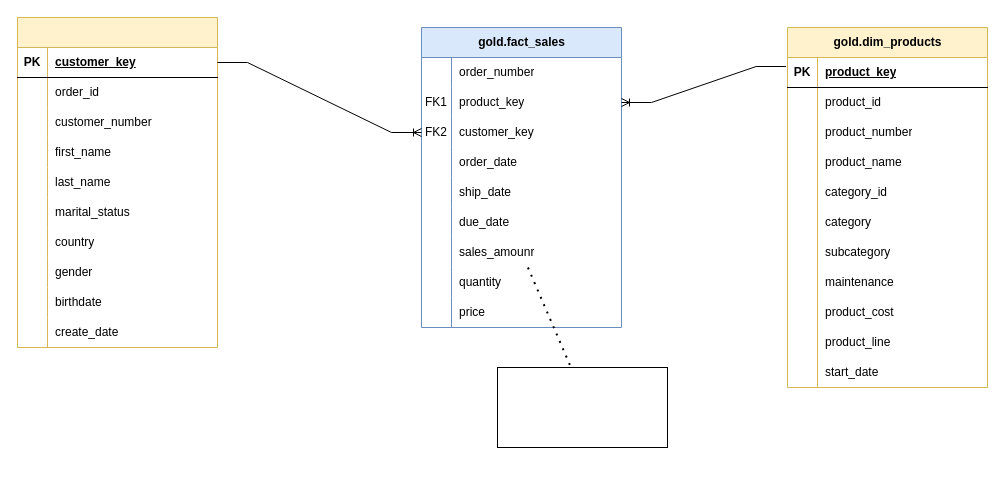
The diagram is 1005 pixels wide and 488 high, and some of its shapes have lost their labels. Here are the shapes that lost their labels. From the top down, the box of each, then its label:
(16, 16, 218, 348): gold.dim_customers
(496, 366, 668, 448): Sales sales = quantity * Price
